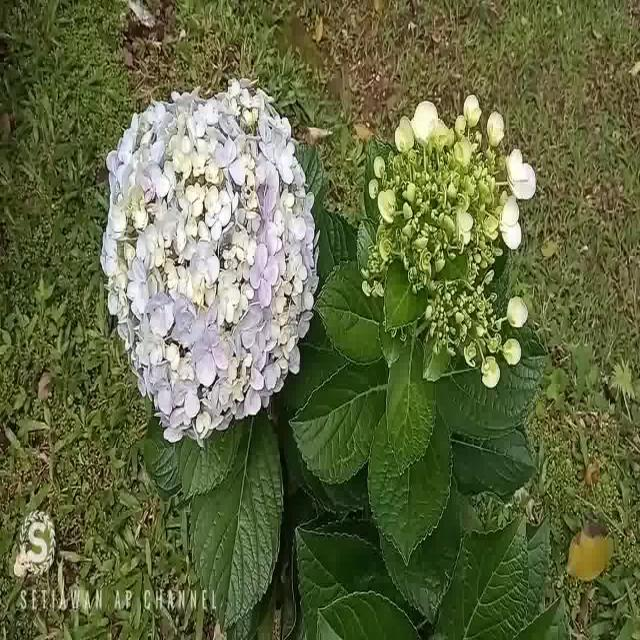Flower: (102, 77, 317, 451), (357, 76, 551, 392)
